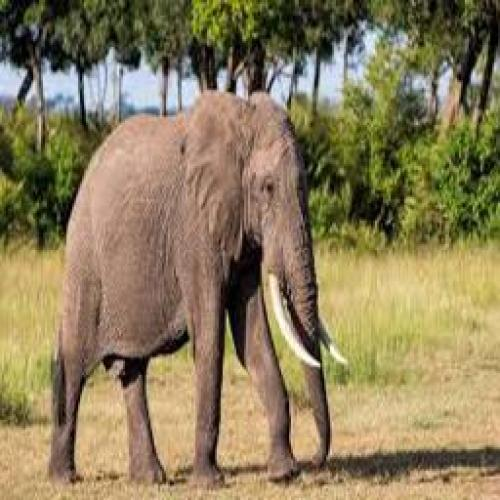african_elephant-endangered: (51, 90, 337, 480)
